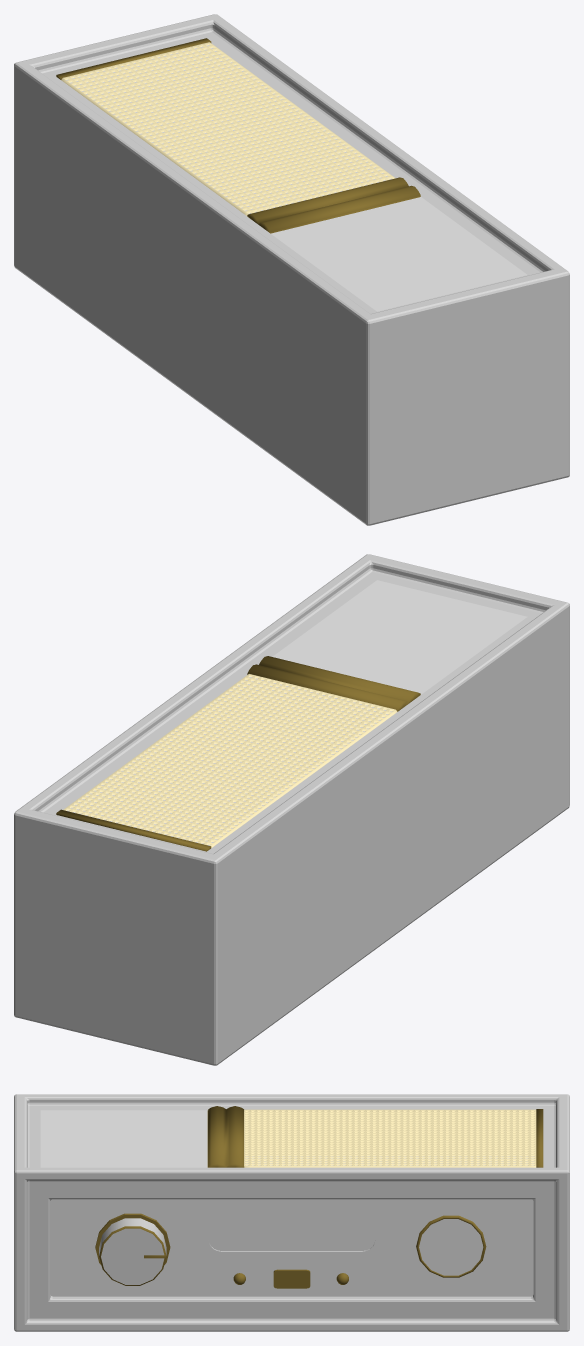
Rendered from L2_RecrodBook.fbx.
The picture shows the model from 3 angles, top to bottom: view 1: azimuth 30°, elevation 25°; view 2: azimuth 150°, elevation 25°; view 3: azimuth 270°, elevation 25°; orthographic projection. The views are drawn at different scales.
Visible parts, largest first — view 1: CaseRecordBook_Wood1, CaseRecordBook_Metal2, CaseRecordBook_Wood2, CaseRecordBook_Metal; view 2: CaseRecordBook_Wood1, CaseRecordBook_Metal2, CaseRecordBook_Wood2, CaseRecordBook_Metal; view 3: CaseRecordBook_Wood1, CaseRecordBook_Wood2, CaseRecordBook_Metal2, CaseRecordBook_Glass, CaseRecordBook_Metal, CaseRecordBook_RotaryKnob, CaseRecordBook_Knob2.
Part boxes in pixels (left/top/right/bottom): CaseRecordBook_Wood1: left=14, top=14, right=569, bottom=525; CaseRecordBook_Metal2: left=61, top=42, right=395, bottom=215; CaseRecordBook_Wood2: left=66, top=45, right=526, bottom=311; CaseRecordBook_Metal: left=56, top=38, right=420, bottom=233; CaseRecordBook_Wood1: left=14, top=554, right=569, bottom=1065; CaseRecordBook_Metal2: left=63, top=674, right=397, bottom=847; CaseRecordBook_Wood2: left=67, top=580, right=527, bottom=845; CaseRecordBook_Metal: left=56, top=656, right=420, bottom=851; CaseRecordBook_Wood1: left=14, top=1094, right=569, bottom=1331; CaseRecordBook_Wood2: left=40, top=1110, right=534, bottom=1296; CaseRecordBook_Metal2: left=244, top=1109, right=536, bottom=1167; CaseRecordBook_Glass: left=208, top=1207, right=483, bottom=1275; CaseRecordBook_Metal: left=95, top=1106, right=543, bottom=1277; CaseRecordBook_RotaryKnob: left=99, top=1218, right=166, bottom=1285; CaseRecordBook_Knob2: left=273, top=1269, right=310, bottom=1288.
Size of the model in its own units: 0.0607 by 0.055 by 0.172.
